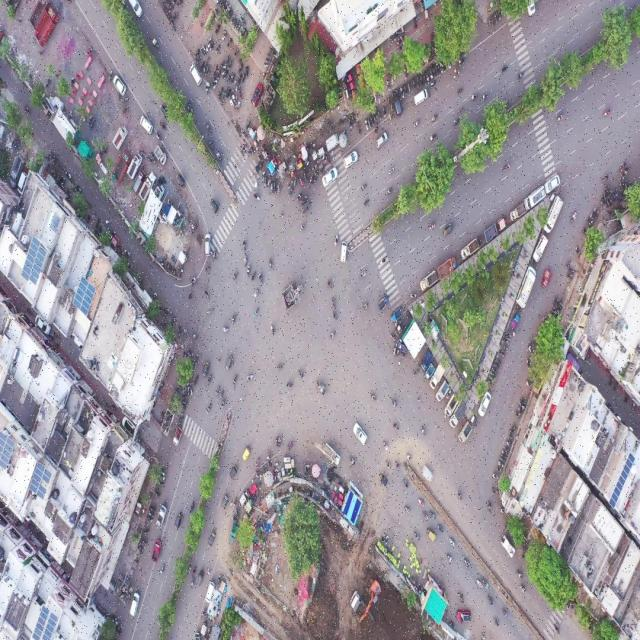3W: (541, 263, 554, 289), (425, 523, 438, 546), (227, 461, 240, 484), (222, 352, 235, 374), (241, 442, 253, 465), (207, 528, 219, 550), (196, 567, 206, 590), (377, 471, 389, 490), (378, 295, 391, 312), (390, 306, 403, 323), (442, 220, 453, 240), (158, 102, 170, 120), (174, 510, 183, 531), (210, 199, 220, 217), (221, 493, 230, 512), (176, 171, 186, 188), (396, 340, 406, 356), (424, 364, 434, 380), (300, 202, 312, 214), (202, 359, 209, 377)
Cars: (531, 235, 549, 262), (353, 421, 369, 449), (499, 535, 515, 558), (130, 589, 141, 622), (112, 76, 129, 96), (322, 167, 338, 187), (546, 174, 562, 194), (414, 87, 428, 109), (456, 607, 472, 626), (190, 63, 202, 88), (478, 392, 490, 417), (251, 83, 263, 107), (392, 91, 403, 116), (343, 151, 359, 168), (205, 578, 216, 602), (128, 0, 143, 17), (140, 115, 153, 134), (375, 130, 387, 150), (326, 134, 339, 152), (205, 234, 213, 257), (340, 240, 347, 265)
LCV: (516, 266, 536, 312), (543, 196, 565, 234), (525, 184, 546, 210), (437, 255, 456, 283), (421, 271, 440, 291), (324, 442, 340, 465), (127, 153, 141, 179), (430, 363, 444, 389), (462, 238, 478, 260), (445, 393, 458, 419), (150, 538, 162, 564), (114, 125, 127, 149), (510, 203, 525, 222), (459, 422, 472, 443), (156, 503, 166, 529), (155, 145, 168, 164), (509, 313, 521, 332), (172, 425, 182, 445)
M2W: (316, 377, 326, 399), (462, 553, 472, 575), (151, 36, 164, 52), (216, 143, 226, 163), (447, 532, 458, 550), (295, 365, 307, 381), (297, 222, 309, 238), (403, 497, 413, 516), (285, 435, 295, 453), (456, 486, 465, 505), (388, 398, 401, 411), (515, 70, 528, 83), (500, 162, 512, 176), (456, 587, 465, 605), (382, 438, 391, 456), (217, 385, 226, 403), (187, 498, 196, 516), (447, 552, 457, 568), (204, 119, 214, 135), (384, 164, 396, 177), (430, 111, 442, 124), (326, 273, 334, 292), (328, 323, 336, 342), (286, 379, 296, 394), (204, 400, 214, 415), (501, 609, 511, 624), (499, 63, 509, 78), (252, 305, 261, 321), (158, 563, 167, 579), (426, 131, 437, 144), (276, 358, 283, 378), (221, 324, 231, 338), (413, 113, 420, 133), (360, 177, 368, 194), (231, 269, 240, 284), (186, 288, 195, 303), (385, 182, 394, 197), (419, 510, 430, 522), (555, 110, 566, 122), (468, 91, 479, 103), (570, 208, 578, 224), (332, 234, 341, 248), (492, 616, 501, 630), (207, 370, 214, 388), (270, 318, 275, 343), (231, 309, 237, 329), (363, 195, 371, 210), (213, 383, 221, 398), (452, 115, 462, 127), (603, 106, 613, 118), (329, 297, 338, 310), (518, 583, 527, 596), (428, 510, 437, 523), (455, 85, 464, 98), (348, 454, 357, 467), (247, 369, 254, 385), (231, 373, 239, 387), (329, 309, 337, 323), (361, 301, 370, 313), (358, 269, 367, 281), (552, 622, 561, 634), (417, 495, 424, 510), (253, 288, 261, 301), (384, 457, 392, 470), (474, 579, 483, 590), (258, 270, 265, 284), (221, 398, 229, 410), (429, 217, 435, 233), (108, 67, 114, 83), (379, 255, 387, 267), (392, 422, 400, 434), (190, 274, 198, 286), (420, 425, 427, 438), (241, 237, 247, 252), (243, 252, 249, 267), (187, 99, 193, 114), (486, 499, 492, 514), (253, 191, 260, 203), (517, 569, 524, 581), (402, 478, 409, 490), (191, 564, 198, 576), (268, 258, 274, 271), (372, 391, 378, 404), (488, 594, 494, 607), (394, 458, 400, 471), (188, 578, 194, 591), (186, 563, 192, 576), (208, 138, 214, 151), (477, 233, 483, 246), (215, 23, 221, 36), (159, 118, 165, 130), (121, 105, 129, 114), (414, 530, 420, 542), (480, 93, 488, 102), (156, 130, 162, 142), (201, 608, 207, 620), (222, 29, 228, 41), (206, 36, 212, 48), (246, 263, 251, 277), (619, 162, 626, 172), (250, 270, 256, 281), (297, 192, 303, 203), (575, 246, 581, 257), (266, 178, 271, 191), (205, 82, 210, 95), (502, 344, 509, 353), (564, 261, 571, 270), (601, 174, 608, 183), (202, 44, 209, 53), (194, 374, 199, 386), (204, 264, 210, 274), (489, 16, 494, 28), (593, 207, 599, 217), (217, 574, 223, 584), (233, 47, 239, 57), (238, 63, 244, 73), (213, 247, 217, 261), (499, 350, 506, 358), (565, 273, 573, 280), (299, 176, 304, 187), (218, 86, 223, 97), (122, 96, 128, 105), (287, 180, 293, 189), (430, 80, 436, 89), (514, 410, 520, 419), (624, 168, 630, 177), (215, 44, 221, 53), (194, 49, 200, 58), (320, 162, 324, 175), (357, 124, 361, 137), (383, 106, 387, 119), (415, 76, 419, 89), (494, 12, 498, 25), (586, 217, 591, 227), (589, 212, 594, 222), (213, 79, 218, 89), (226, 74, 231, 84), (230, 73, 235, 83), (203, 63, 208, 73), (217, 70, 222, 80), (568, 267, 575, 274), (261, 171, 265, 183), (387, 80, 391, 92), (404, 84, 408, 96), (440, 62, 444, 74), (502, 339, 510, 345), (213, 64, 217, 76), (325, 156, 330, 165), (180, 411, 184, 422), (364, 119, 368, 130), (367, 118, 371, 129), (378, 110, 382, 121), (400, 87, 404, 98), (234, 80, 238, 91), (142, 539, 148, 546), (143, 530, 150, 536), (148, 510, 155, 516), (149, 505, 156, 511), (493, 473, 499, 480), (492, 490, 498, 497), (501, 450, 508, 456), (520, 403, 526, 410), (525, 381, 532, 387), (494, 362, 500, 369), (551, 310, 558, 316), (240, 146, 244, 156), (504, 440, 512, 445), (238, 87, 242, 97), (228, 38, 232, 48), (219, 60, 224, 68), (226, 55, 230, 65), (228, 60, 232, 70), (271, 182, 274, 195), (147, 517, 153, 523), (154, 492, 160, 498), (264, 175, 267, 187), (277, 182, 280, 194), (274, 182, 277, 194), (289, 187, 293, 196), (304, 171, 307, 183), (375, 122, 378, 134), (407, 81, 410, 93), (430, 70, 434, 79), (498, 9, 501, 21), (498, 462, 504, 468), (506, 331, 512, 337), (604, 184, 610, 190), (245, 66, 248, 78), (495, 467, 502, 472), (503, 446, 510, 451), (370, 115, 373, 126), (387, 97, 390, 108), (426, 72, 429, 83), (462, 54, 465, 65), (242, 72, 245, 83), (348, 120, 352, 128), (294, 176, 297, 186), (352, 116, 355, 126), (375, 107, 378, 117), (412, 78, 415, 88), (423, 76, 426, 86), (433, 68, 436, 78), (435, 67, 438, 77), (443, 63, 446, 73), (499, 457, 505, 462), (496, 359, 502, 364), (600, 196, 603, 206), (238, 75, 241, 85), (504, 336, 511, 340), (420, 76, 423, 85)
Truck: (35, 5, 59, 46), (351, 591, 374, 629), (112, 150, 131, 182)
